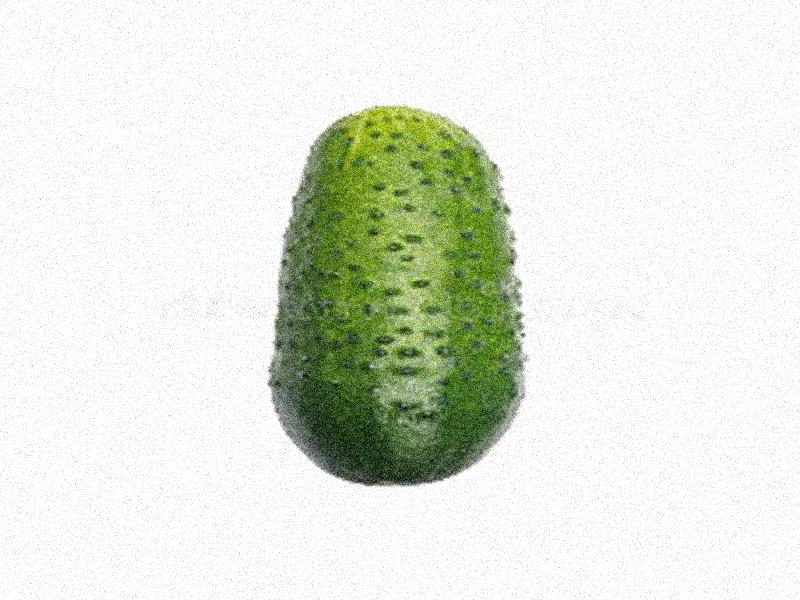Cucumber: (268, 103, 529, 486)
